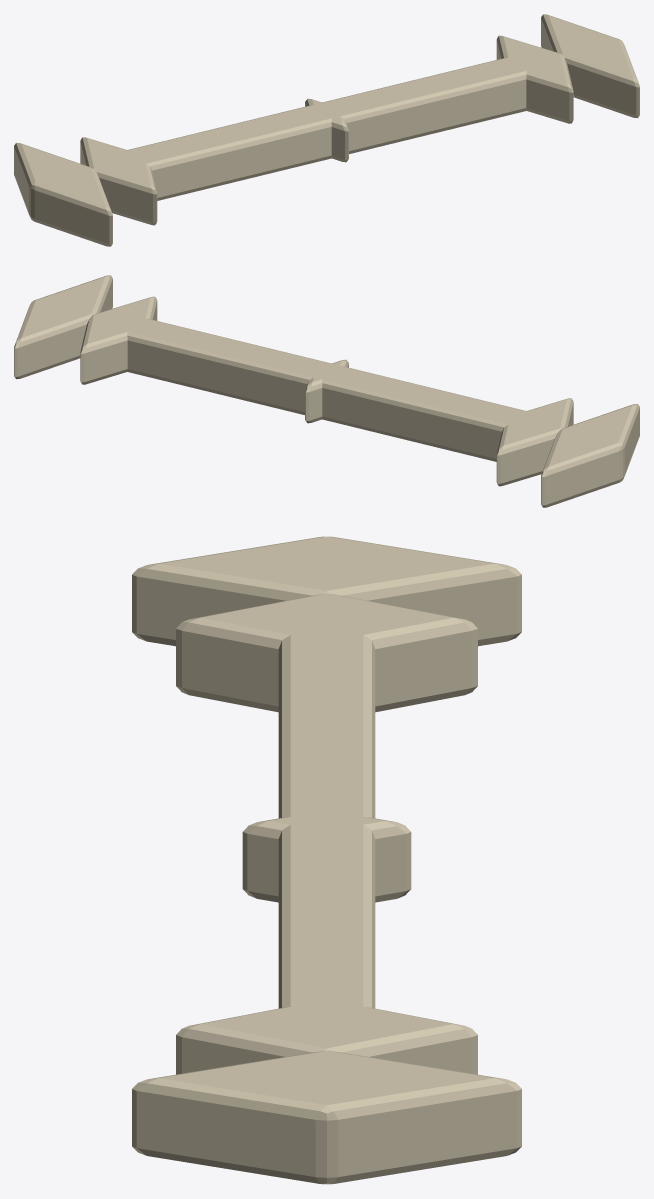
The model's file is okhtein_emblem.glb.
3 renders of one model, top to bottom at view 1: azimuth 30°, elevation 25°; view 2: azimuth 150°, elevation 25°; view 3: azimuth 270°, elevation 25°, orthographic. The views are drawn at different scales.
Visible parts, largest first — view 1: OkhteinEmblem; view 2: OkhteinEmblem; view 3: OkhteinEmblem.
Part boxes in pixels (<box>): OkhteinEmblem: <box>14,14,639,246</box>; OkhteinEmblem: <box>14,275,639,507</box>; OkhteinEmblem: <box>132,536,521,1184</box>.
Bounding box in the file's own units: 2.03 × 0.13 × 0.5803.
